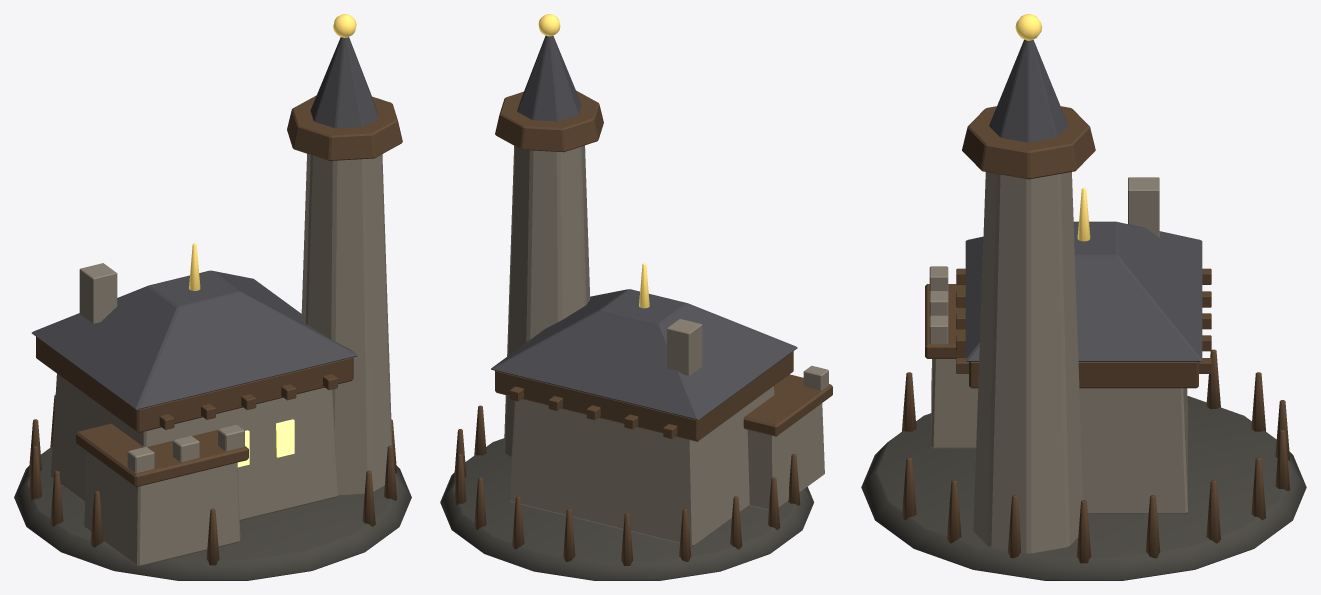
File: Vedeno_DivanKhana_Capital.glb
The picture shows the model from 3 angles, left to right: view 1: azimuth 30°, elevation 25°; view 2: azimuth 150°, elevation 25°; view 3: azimuth 270°, elevation 25°; orthographic projection. The views are drawn at different scales.
Visible parts, largest first — view 1: DivanHippedRoof, VedenoMinaret, CapitalPlinth, DivanHallBase, ArsenalWing, WalnutGallery, ArsenalRoof, MinaretBalcony, MinaretSpire, DivanChimney, FacadeWin_0.22, Merlon_-1.12 (+8 smaller); view 2: DivanHallBase, DivanHippedRoof, CapitalPlinth, VedenoMinaret, WalnutGallery, ArsenalWing, MinaretBalcony, MinaretSpire, ArsenalRoof, DivanChimney, Merlon_-1.12; view 3: VedenoMinaret, CapitalPlinth, DivanHippedRoof, DivanHallBase, MinaretBalcony, MinaretSpire, ArsenalWing, WalnutGallery, DivanChimney, ArsenalRoof, Palisade_0, Palisade_1 (+10 smaller).
Boxes of the visible parts, <box> form: DivanHippedRoof: <box>31,270,357,409</box>; VedenoMinaret: <box>301,153,392,495</box>; CapitalPlinth: <box>14,447,411,580</box>; DivanHallBase: <box>50,374,338,520</box>; ArsenalWing: <box>84,451,240,566</box>; WalnutGallery: <box>36,337,353,432</box>; ArsenalRoof: <box>76,423,248,487</box>; MinaretBalcony: <box>287,95,402,160</box>; MinaretSpire: <box>310,37,379,128</box>; DivanChimney: <box>79,263,117,323</box>; FacadeWin_0.22: <box>276,419,294,457</box>; Merlon_-1.12: <box>127,447,154,473</box>; DivanHallBase: <box>509,386,774,546</box>; DivanHippedRoof: <box>491,289,797,420</box>; CapitalPlinth: <box>440,438,813,580</box>; VedenoMinaret: <box>504,145,590,456</box>; WalnutGallery: <box>495,351,793,441</box>; ArsenalWing: <box>747,403,824,510</box>; MinaretBalcony: <box>495,90,603,152</box>; MinaretSpire: <box>517,35,581,121</box>; ArsenalRoof: <box>743,374,832,436</box>; DivanChimney: <box>667,319,702,376</box>; Merlon_-1.12: <box>803,365,828,390</box>; VedenoMinaret: <box>973,172,1083,553</box>; CapitalPlinth: <box>861,396,1306,580</box>; DivanHippedRoof: <box>965,221,1202,361</box>; DivanHallBase: <box>1079,388,1187,514</box>; MinaretBalcony: <box>962,106,1095,179</box>; MinaretSpire: <box>989,39,1068,142</box>; ArsenalWing: <box>931,359,978,448</box>; WalnutGallery: <box>969,362,1198,388</box>; DivanChimney: <box>1128,177,1159,237</box>; ArsenalRoof: <box>925,284,965,358</box>; Palisade_0: <box>1076,500,1091,563</box>; Palisade_1: <box>1145,495,1160,558</box>.
Bounding box in the file's own units: 2.78 × 3.73 × 2.83.
